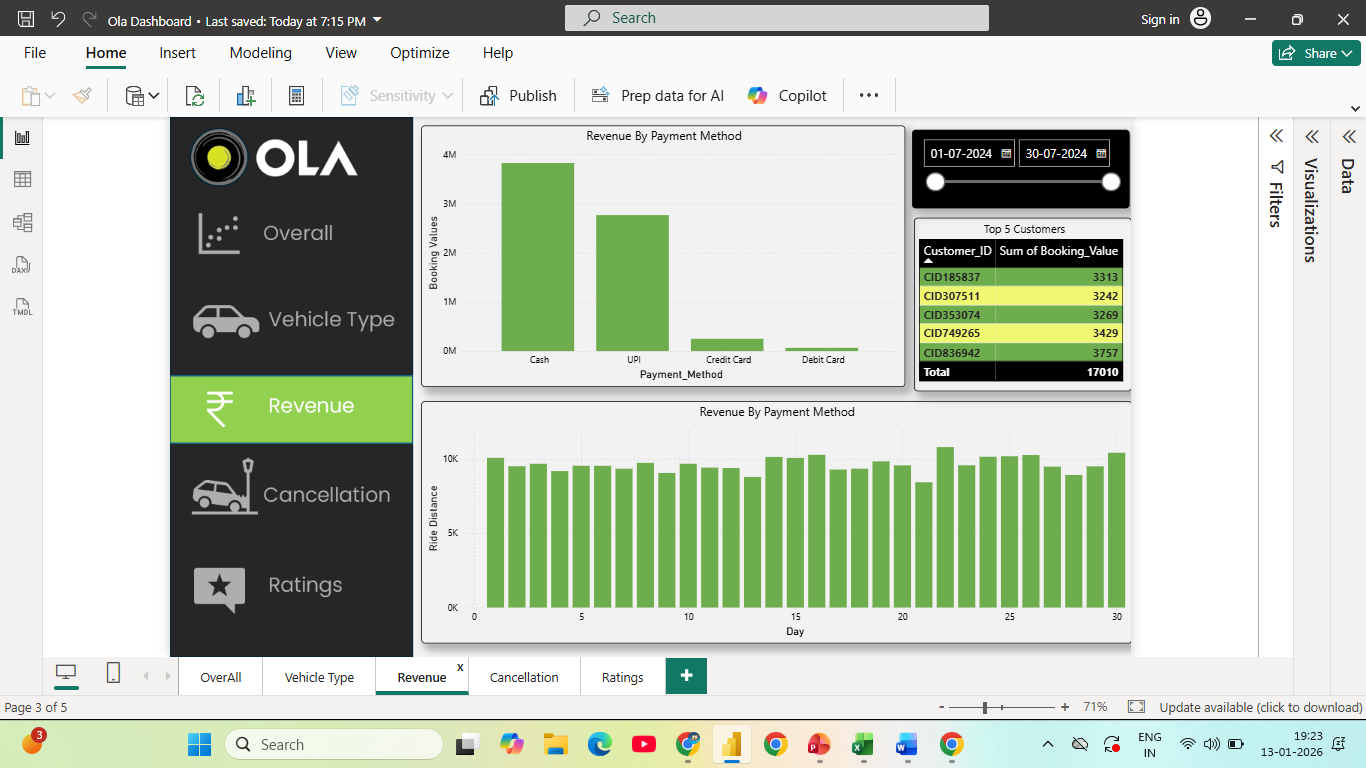

What the dashboard file says about the page in this screenshot:
{"tool":"powerbi","page":{"name":"Revenue","canvas":[1280,720],"ordinal":2},"visuals":[{"type":"actionButton","box":[0,567.2,324.5,107.2],"z":0},{"type":"actionButton","box":[0,217.3,324.5,104.4],"z":1000},{"type":"actionButton","box":[0,451.5,324.5,88.9],"z":2000},{"type":"actionButton","box":[0,121.3,324.5,83.2],"z":3000},{"type":"columnChart","title":"Revenue By Payment Method","fields":{"Y":["July.Booking_Value"],"Category":["July.Payment_Method"]},"box":[334.3,12,644.6,347.8],"z":4000},{"type":"columnChart","title":"Revenue By Payment Method","fields":{"Y":["July.Ride_Distance"],"Category":["July.Date.Variation.Date Hierarchy.Day"]},"box":[334.3,377.8,945.9,322.3],"z":5000},{"type":"tableEx","title":"Top 5 Customers","fields":{"Values":["July.Customer_ID","July.Booking_Value"]},"box":[990.7,134.4,289.3,231.4],"z":7000},{"type":"slicer","fields":{"Values":["July.Date"]},"box":[987.2,16.8,289.3,104.5],"z":7001}]}

Visuals, with their boxes on the page's 1280x720 design canvas (x1, y1, x2, y2). These are canvas units, not pixel positions in the 1366x768 screenshot, which may show the page scaled, cropped or inside an application window:
actionButton: {"x1": 0, "y1": 567, "x2": 324, "y2": 674}
actionButton: {"x1": 0, "y1": 217, "x2": 324, "y2": 322}
actionButton: {"x1": 0, "y1": 452, "x2": 324, "y2": 540}
actionButton: {"x1": 0, "y1": 121, "x2": 324, "y2": 204}
"Revenue By Payment Method" columnChart: {"x1": 334, "y1": 12, "x2": 979, "y2": 360}
"Revenue By Payment Method" columnChart: {"x1": 334, "y1": 378, "x2": 1280, "y2": 700}
"Top 5 Customers" tableEx: {"x1": 991, "y1": 134, "x2": 1280, "y2": 366}
slicer - July.Date: {"x1": 987, "y1": 17, "x2": 1276, "y2": 121}
